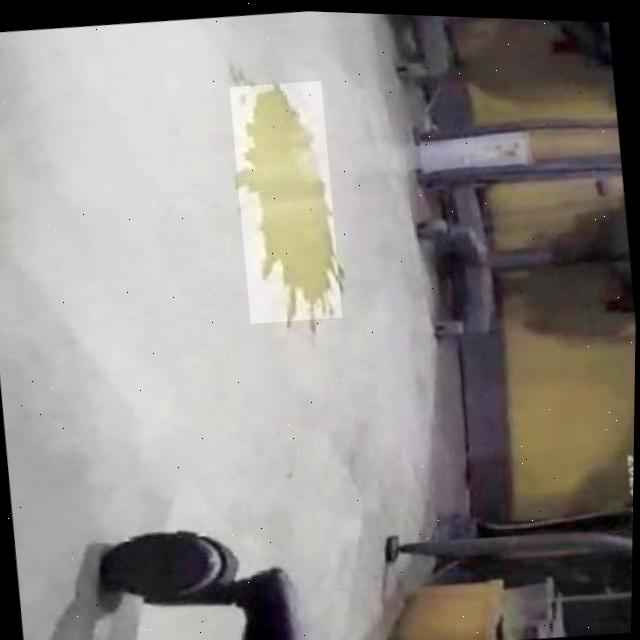spillage: (238, 82, 337, 316)
